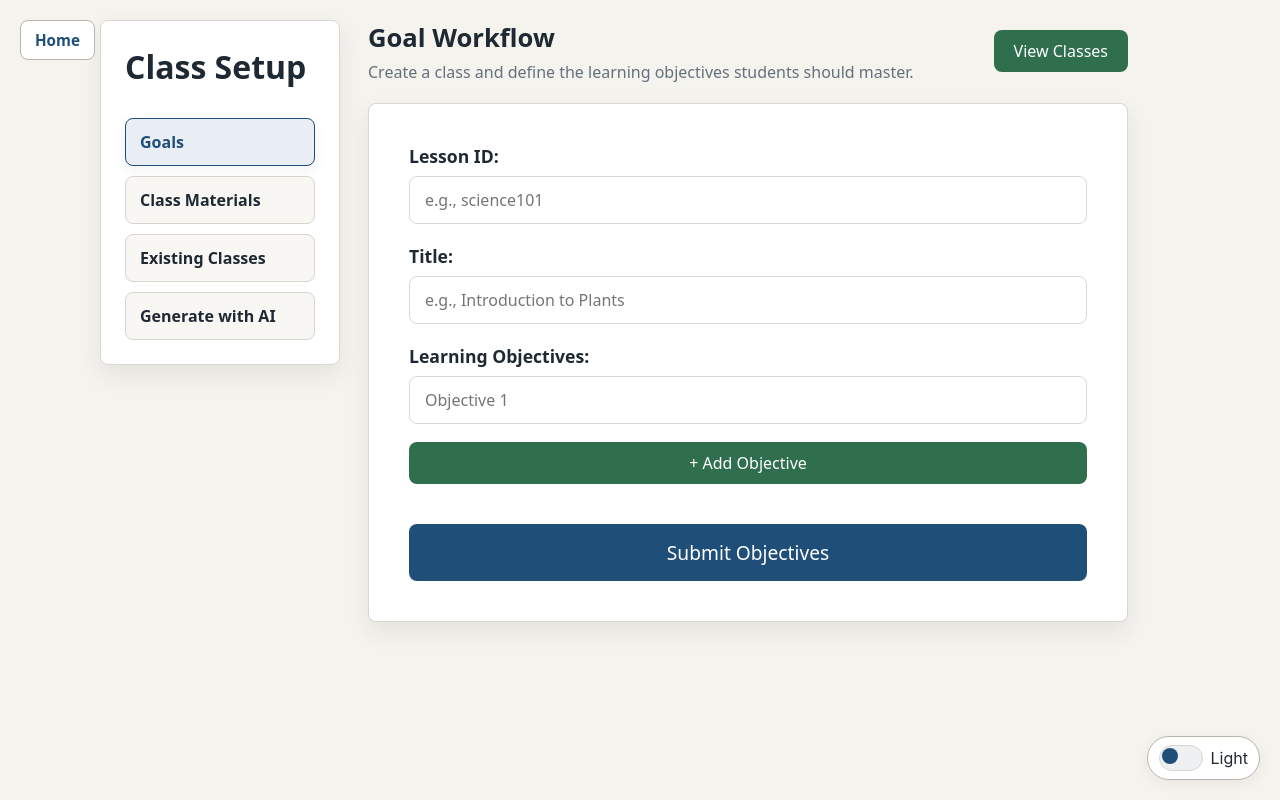
Test: teacher class setup uses workflow tabs
Check: the heading "Goal Workflow" is shown, box [368, 20, 555, 55]
Check: the field labelled "course material pdf" is not shown
Click the button "Generate with AI" at (220, 316), box [125, 292, 315, 340]
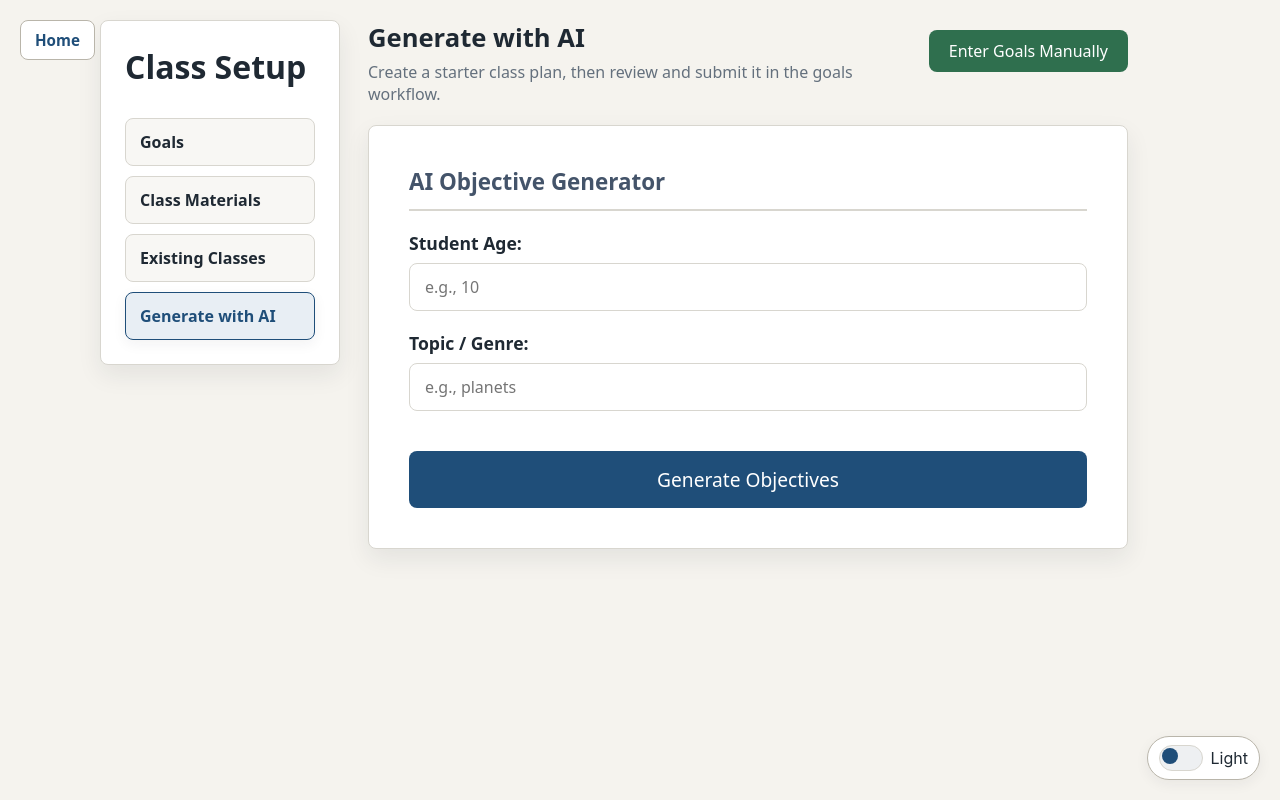
Check: the heading "Generate with AI" is shown, box [368, 20, 585, 55]
Check: the heading "AI Objective Generator" is shown, box [409, 166, 1087, 211]
Click the button "Existing Classes" at (220, 258), box [125, 234, 315, 282]
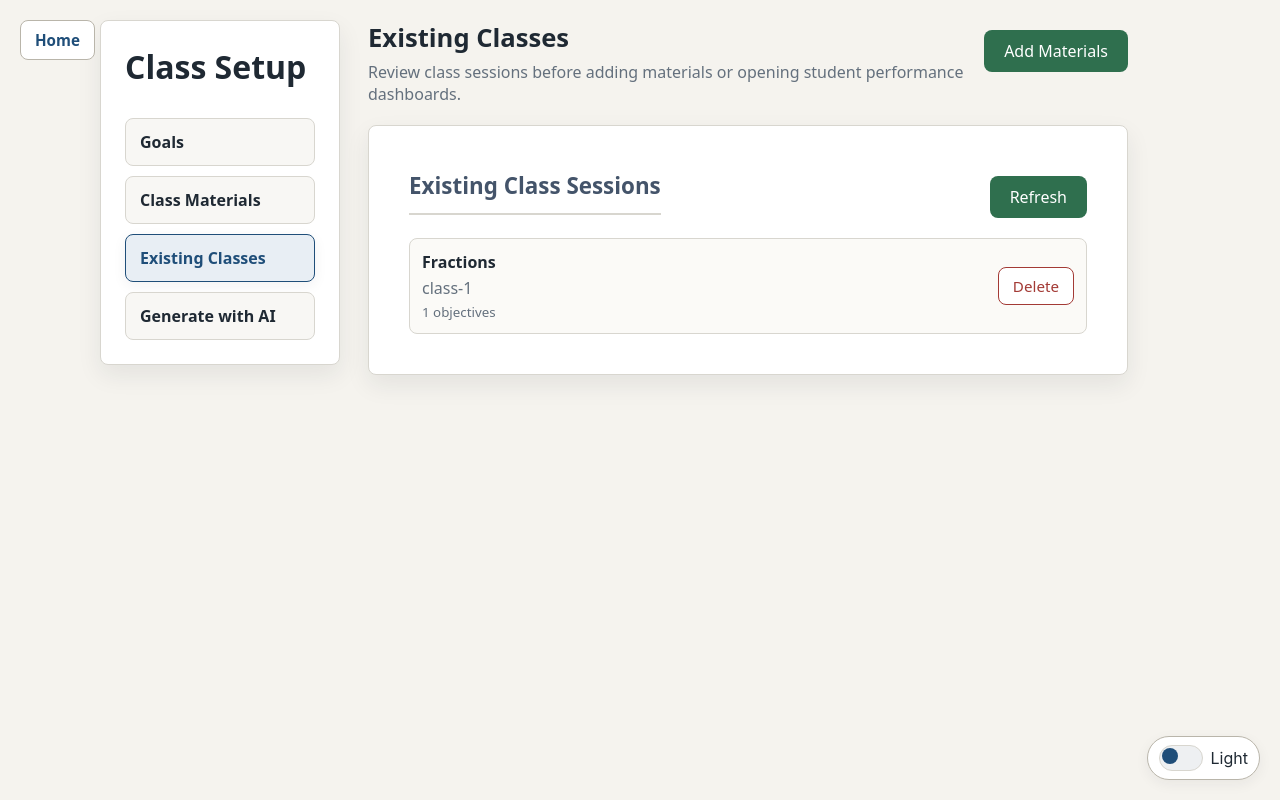
Check: the heading "Existing Classes" is shown, box [368, 20, 569, 55]
Check: the heading "Existing Class Sessions" is shown, box [409, 170, 661, 214]
Click the button "Class Materials" at (220, 200), box [125, 176, 315, 224]
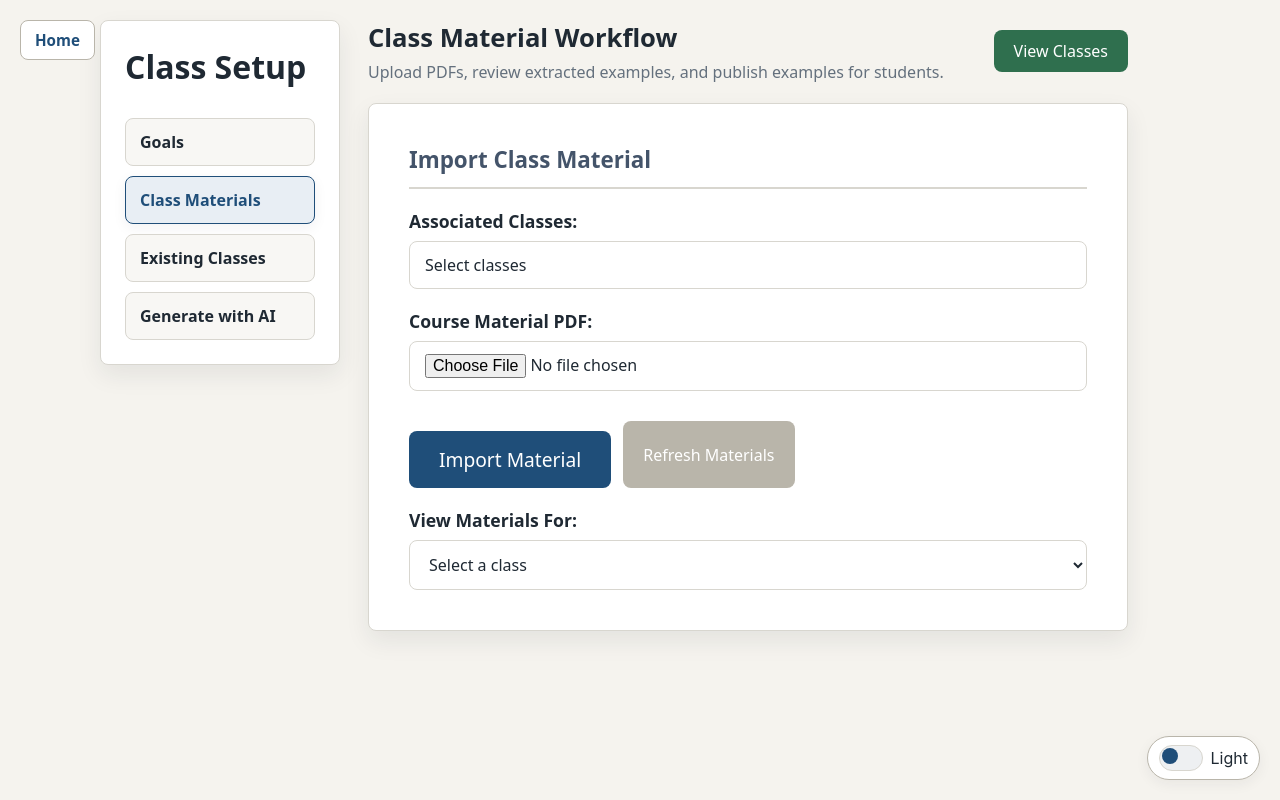
Check: the heading "Class Material Workflow" is shown, box [368, 20, 677, 55]
Check: the file field labelled "Course Material PDF:" is shown, box [409, 341, 1087, 391]
